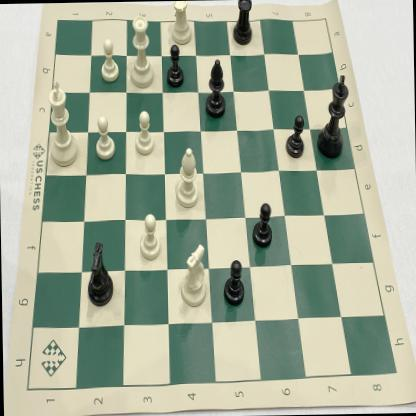bishop: (172, 142, 200, 212), (201, 54, 228, 121)
king: (314, 72, 352, 164), (44, 75, 80, 169)
knight: (177, 239, 210, 310), (84, 238, 116, 310)
pawn: (137, 206, 163, 264), (91, 114, 119, 164), (250, 198, 274, 252), (222, 256, 246, 309), (132, 108, 156, 160), (98, 36, 122, 85), (284, 112, 306, 164), (164, 41, 186, 89)
queen: (128, 12, 156, 92)
rook: (229, 0, 257, 50), (168, 0, 194, 48)
